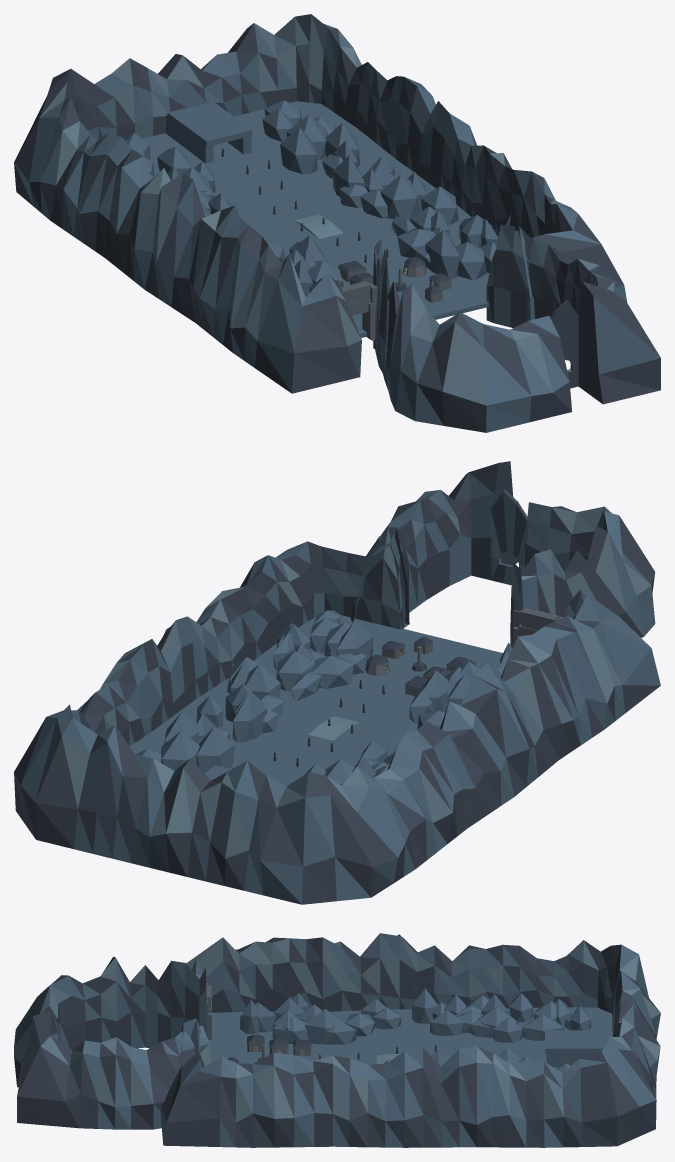
The picture shows the model from 3 angles, top to bottom: view 1: azimuth 30°, elevation 25°; view 2: azimuth 150°, elevation 25°; view 3: azimuth 270°, elevation 25°; orthographic projection. The views are drawn at different scales.
Visible parts, largest first — view 1: Perimeter solid Shelf cliffs, Perimeter solid Basin west cliffs, Ice shelf, Cavern ceiling, Perimeter solid Cavern headwall, Ice escarpment.002, Ice escarpment.051, Ice escarpment.001, Ice escarpment.003, Ice escarpment.058, Cavern wall, Ice escarpment.008 (+6 smaller); view 2: Perimeter solid Shelf cliffs, Ice shelf, Perimeter solid Basin west cliffs, Perimeter solid Cavern headwall, Ice escarpment.002, Ice escarpment.062, Ice escarpment.042, Ice escarpment.008, Ice escarpment.049, Ice escarpment.001, Ice escarpment.051, Ice escarpment.013 (+1 smaller); view 3: Perimeter solid Shelf cliffs, Perimeter solid Basin west cliffs, Ice shelf, Cavern ceiling, Ice escarpment.013, Ice escarpment.041, Ice escarpment.020, Ice escarpment.056, Ice escarpment.046, Ice escarpment.011, Cavern wall.001, Ice escarpment.017 (+7 smaller).
Boxes of the visible parts, x1,y1,x2,y2 form: Perimeter solid Shelf cliffs: [14, 14, 660, 404]; Perimeter solid Basin west cliffs: [373, 239, 572, 432]; Ice shelf: [143, 101, 489, 337]; Cavern ceiling: [167, 101, 252, 146]; Perimeter solid Cavern headwall: [550, 300, 578, 388]; Ice escarpment.002: [280, 127, 317, 174]; Ice escarpment.051: [381, 173, 419, 220]; Ice escarpment.001: [425, 230, 459, 278]; Ice escarpment.003: [456, 242, 486, 279]; Ice escarpment.058: [421, 186, 458, 225]; Cavern wall: [168, 118, 213, 163]; Ice escarpment.008: [286, 115, 327, 160]; Perimeter solid Shelf cliffs: [14, 461, 660, 904]; Ice shelf: [130, 615, 502, 786]; Perimeter solid Basin west cliffs: [510, 502, 655, 648]; Perimeter solid Cavern headwall: [490, 490, 529, 585]; Ice escarpment.002: [196, 727, 234, 772]; Ice escarpment.062: [232, 692, 266, 742]; Ice escarpment.042: [311, 655, 353, 688]; Ice escarpment.008: [161, 731, 199, 770]; Ice escarpment.049: [276, 651, 314, 691]; Ice escarpment.001: [336, 621, 373, 665]; Ice escarpment.051: [244, 664, 280, 697]; Ice escarpment.013: [422, 670, 448, 712]; Perimeter solid Shelf cliffs: [17, 933, 660, 1147]; Perimeter solid Basin west cliffs: [14, 956, 206, 1087]; Ice shelf: [208, 1007, 612, 1068]; Cavern ceiling: [545, 1030, 609, 1053]; Ice escarpment.013: [305, 1009, 341, 1044]; Ice escarpment.041: [430, 1010, 464, 1035]; Ice escarpment.020: [522, 1015, 563, 1040]; Ice escarpment.056: [412, 988, 438, 1023]; Ice escarpment.046: [272, 1016, 308, 1043]; Ice escarpment.011: [321, 1019, 356, 1044]; Cavern wall.001: [546, 1051, 601, 1067]; Ice escarpment.017: [493, 1017, 522, 1042].
Bounding box in the file's own units: 131 × 42.32 × 252.
